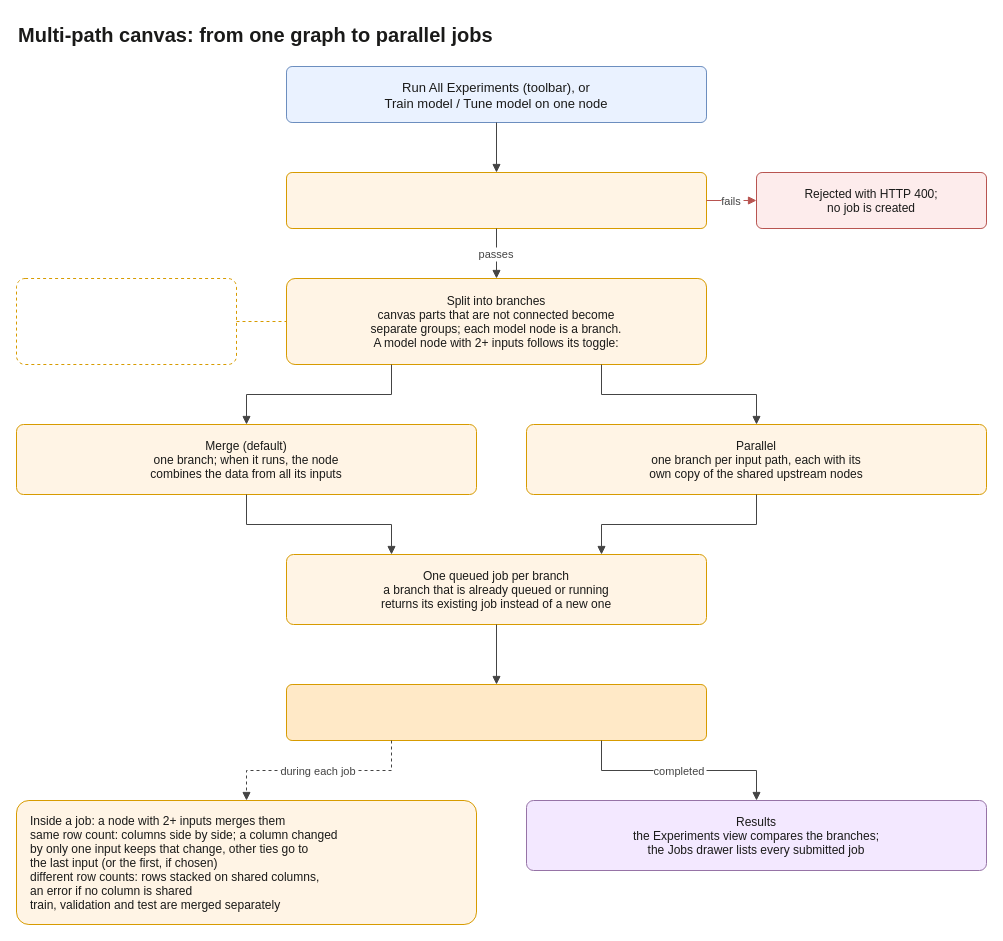
This 1003x941 diagram has some shape labels left out. Here are the shapes that lost their labels. From the top down, the centre of each, then its label:
point 496,200: Server checks the graph for leakage (POST /api/pipeline/run)
point 126,321: Train / Tune on one node: only the branches that contain that node are kept
point 496,712: New jobs run at the same time one Celery task, or threads in-process
